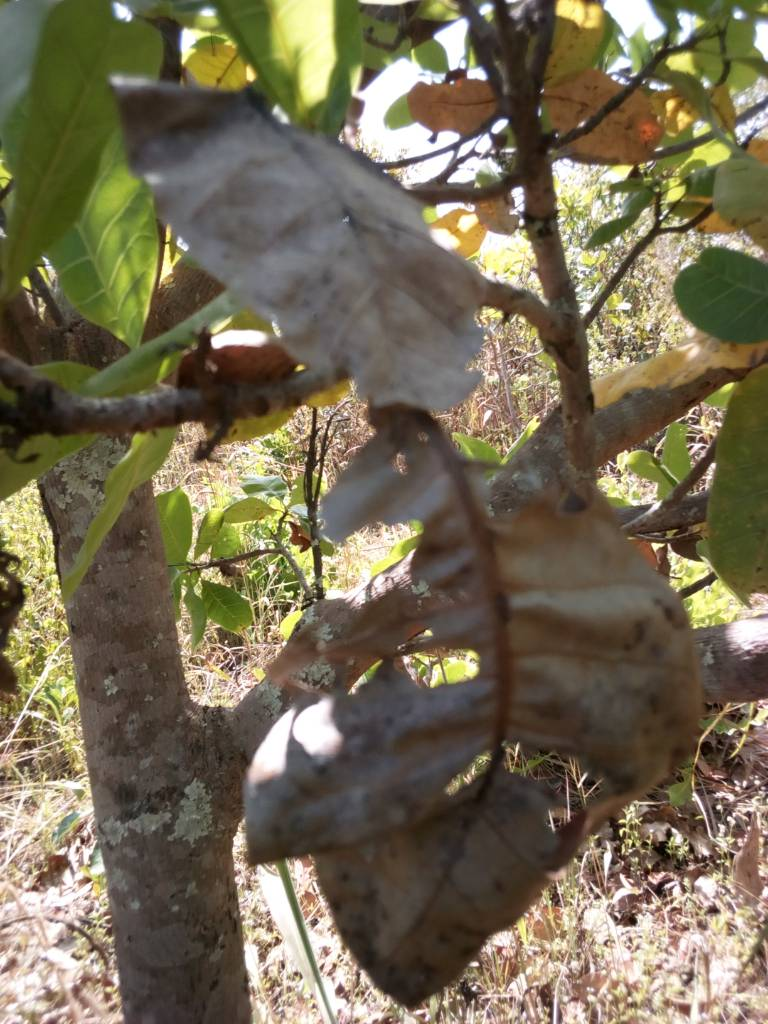Dessèchement des bourgeons: (353, 1, 733, 188)
